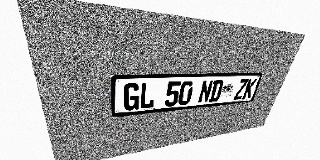0: (177, 81, 194, 105)
5: (164, 81, 181, 107)
D: (208, 80, 224, 102)
G: (123, 83, 140, 111)
K: (242, 78, 257, 99)
L: (139, 82, 156, 109)
N: (197, 80, 214, 103)
Z: (233, 79, 249, 100)
